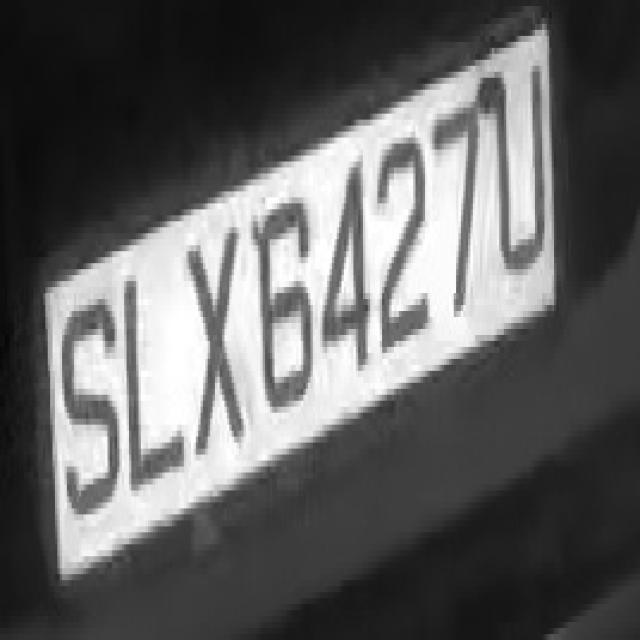2: (368, 114, 432, 370)
4: (318, 144, 377, 406)
6: (246, 180, 318, 430)
7: (425, 90, 482, 341)
L: (117, 246, 189, 508)
S: (53, 275, 117, 532)
U: (482, 54, 552, 305)
X: (179, 203, 251, 484)
